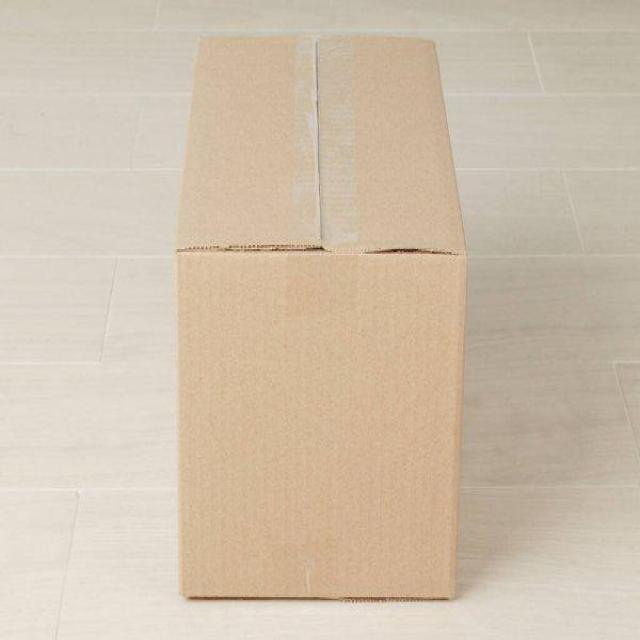cardboard: (177, 32, 469, 602)
